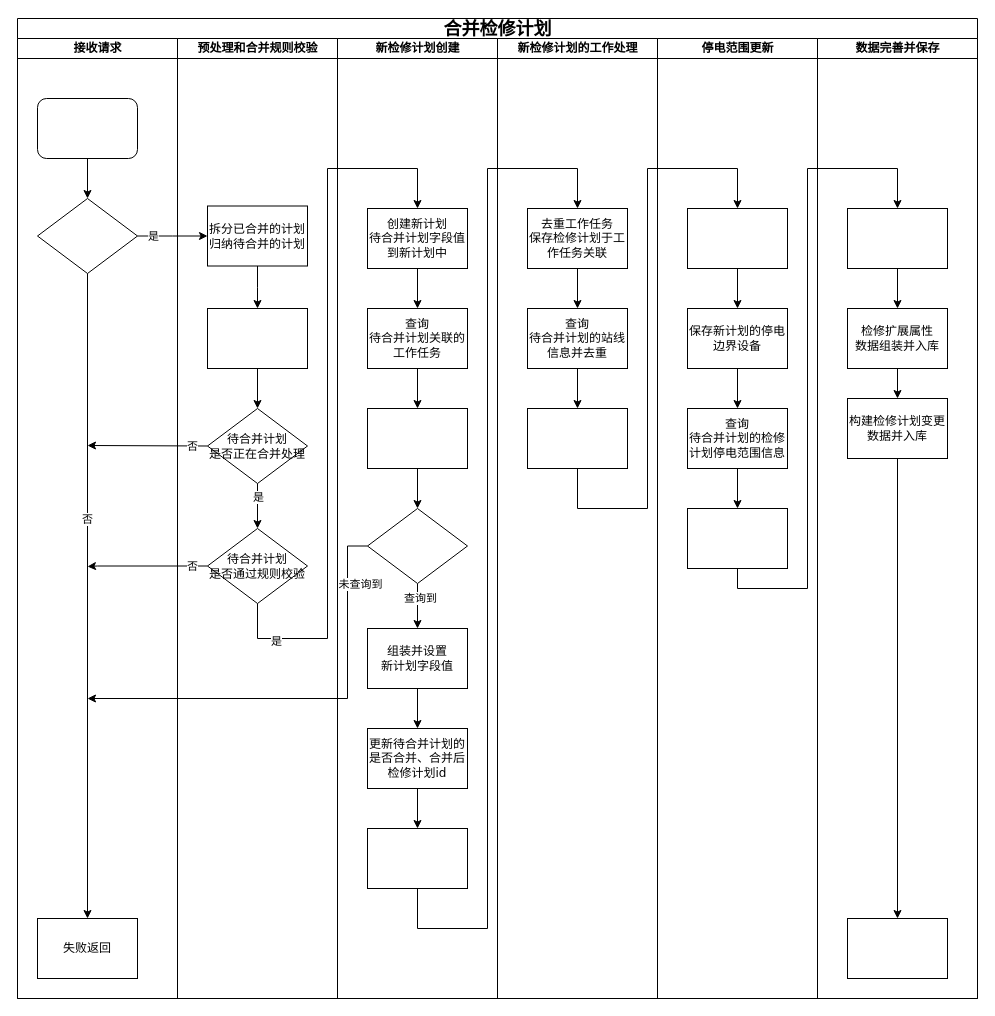
This 995x1016 diagram has some shape labels left out. The shapes that lost their labels are listed below. From the top down, each one's centre as x and y in pixels, then its label:
At (87,128): "开始".
At (87,236): "参数验证".
At (737,238): "查询 待合并计划的停电边界设备信息".
At (897,238): "检修发送内容配置 数据组装并入库".
At (257,338): "查询 待合并计划数据".
At (417,438): "查询 待合并计划关联的 设备".
At (577,438): "保存新计划的站线".
At (417,546): "根据合并计划的人员id查询班组信息".
At (737,538): "保存新计划的 检修计划停电范围".
At (417,858): "保存 新检修计划".
At (897,948): "成功返回".
